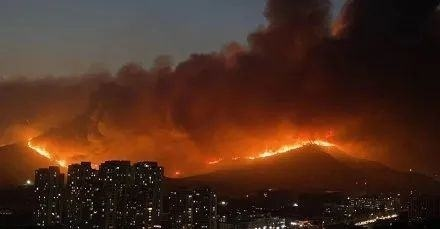fire: (225, 137, 343, 160), (25, 136, 70, 168)
